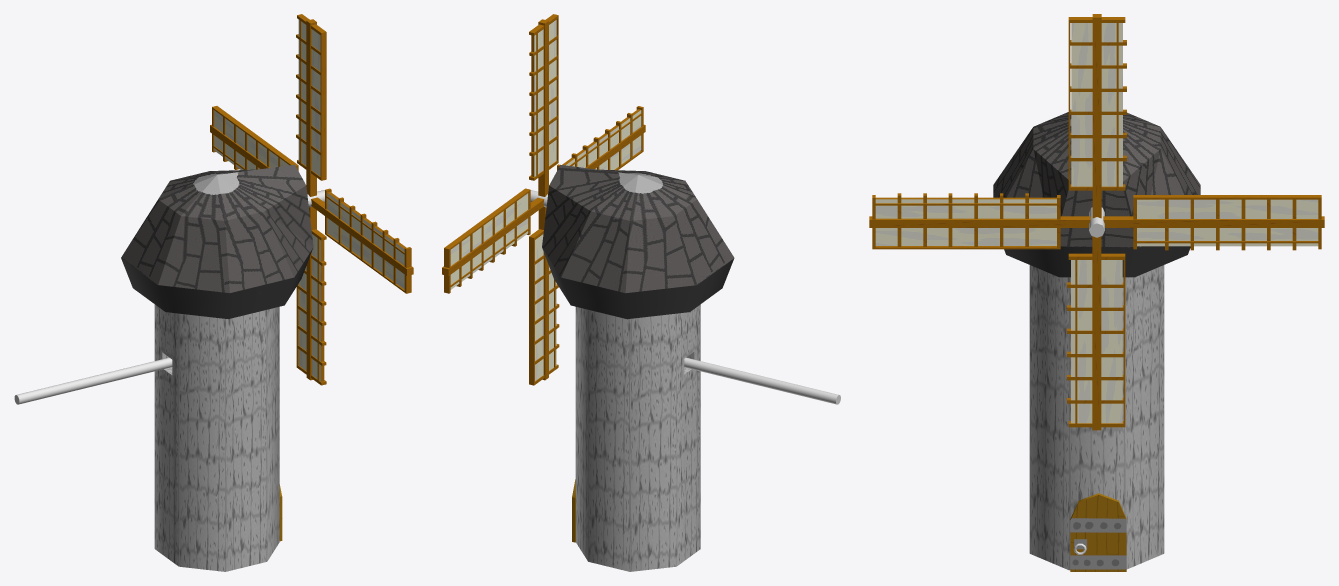
Rendered from Kleine Molen.FBX.
The picture shows the model from 3 angles, left to right: view 1: azimuth 30°, elevation 25°; view 2: azimuth 150°, elevation 25°; view 3: azimuth 270°, elevation 25°; orthographic projection. The views are drawn at different scales.
Visible parts, largest first — view 1: T019, Kleine molen001, T016, T017, T018, T013, T014; view 2: T019, Kleine molen001, T016, T013, T018, T017, T014; view 3: T019, Kleine molen001, T017, T013, T016, T018, T011.
Boxes of the visible parts, x1,y1,x2,y2 form: T019: (154,304,279,571); Kleine molen001: (121,164,313,319); T016: (296,14,326,196); T017: (311,188,413,293); T018: (296,207,326,385); T013: (210,106,298,170); T014: (14,357,172,404); T019: (575,304,700,571); Kleine molen001: (542,165,734,319); T016: (529,14,558,196); T013: (442,188,544,293); T018: (529,207,559,385); T017: (557,106,645,170); T014: (684,357,840,404); T019: (1029,265,1164,570); Kleine molen001: (993,112,1200,277); T017: (869,193,1090,249); T013: (1103,195,1324,250); T016: (1068,14,1126,218); T018: (1067,236,1125,430); T011: (1070,493,1126,571).
Bounding box in the file's own units: 0.0892 × 0.1381 × 0.0983.
